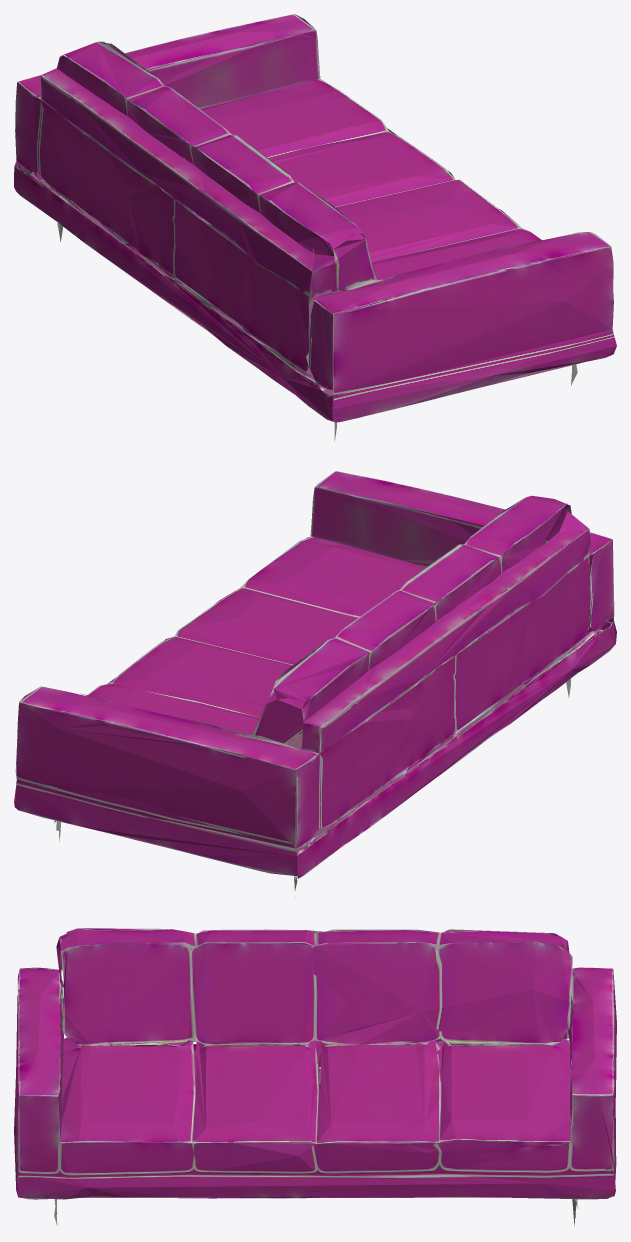
File: couch.glb
3 renders of one model, top to bottom at view 1: azimuth 30°, elevation 25°; view 2: azimuth 150°, elevation 25°; view 3: azimuth 270°, elevation 25°, orthographic. The views are drawn at different scales.
Visible parts, largest first — view 1: tripo_node_47a7bcb8-9c0d-4f36-8cee-fc37016223ff; view 2: tripo_node_47a7bcb8-9c0d-4f36-8cee-fc37016223ff; view 3: tripo_node_47a7bcb8-9c0d-4f36-8cee-fc37016223ff.
Part boxes in pixels (left/top/right/bottom): tripo_node_47a7bcb8-9c0d-4f36-8cee-fc37016223ff: left=14, top=14, right=616, bottom=441; tripo_node_47a7bcb8-9c0d-4f36-8cee-fc37016223ff: left=14, top=471, right=616, bottom=897; tripo_node_47a7bcb8-9c0d-4f36-8cee-fc37016223ff: left=14, top=928, right=616, bottom=1226.
Size of the model in its own units: 0.5187 by 0.3537 by 1.
Materials: 1 (1 with a texture image).
